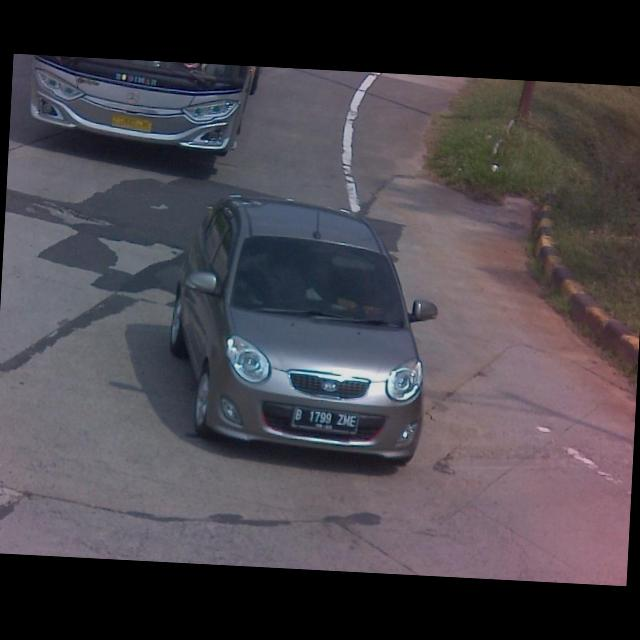plate: (294, 404, 358, 434)
